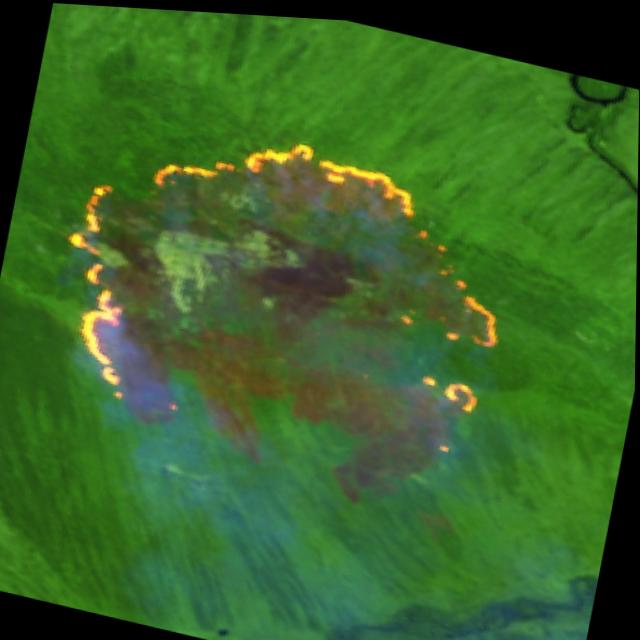fire: (30, 87, 531, 493)
